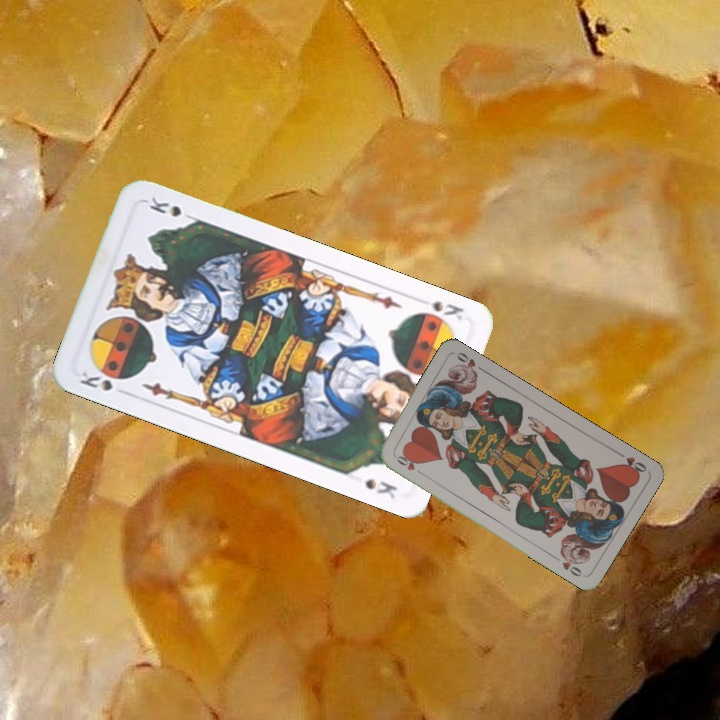HO: (613, 448, 649, 478), (390, 451, 426, 478)
SK: (76, 367, 132, 398), (426, 297, 467, 323)
